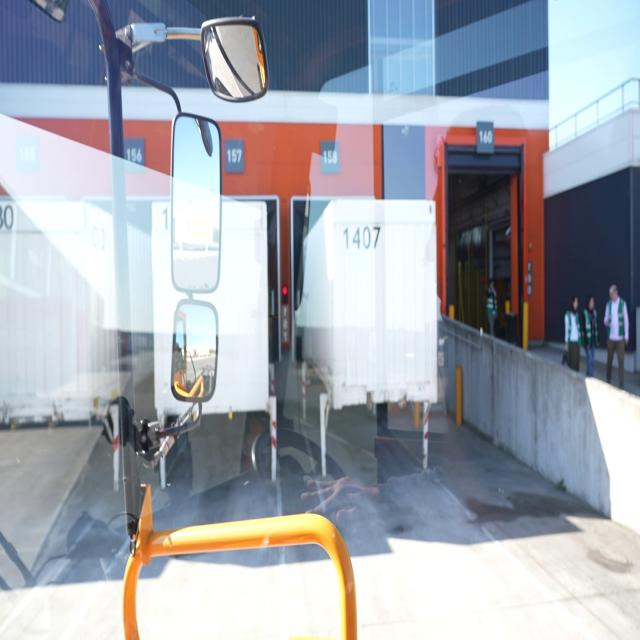Code: (340, 213, 386, 256)
